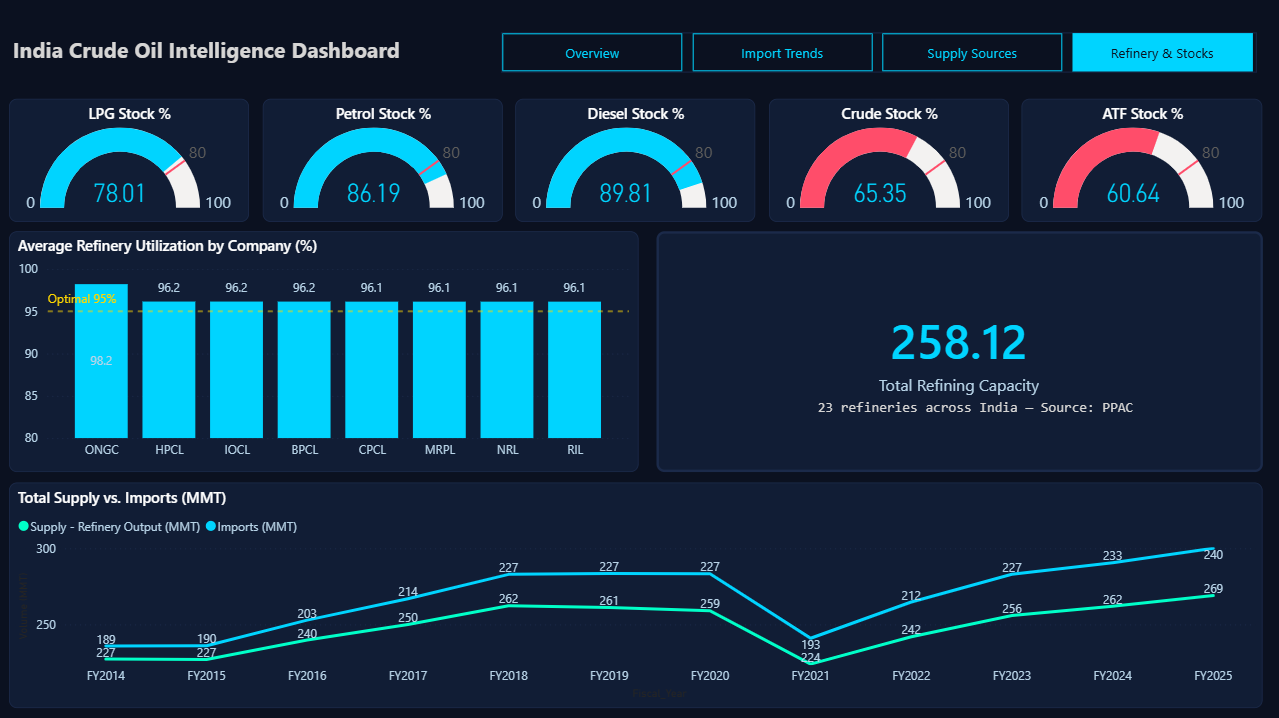

The page's visual inventory and layout, read from the dashboard file:
{"tool":"powerbi","page":{"name":"Refinery & Stocks","canvas":[1280,720],"ordinal":3},"visuals":[{"type":"gauge","title":"LPG Stock %","fields":{"Y":["StockLevels.LPG Stock"],"MinValue":["CrudeYearlyExtended.Gauge Min"],"MaxValue":["StockLevels.S Gauge Max"],"TargetValue":["StockLevels.Stock Target"]},"box":[10.3,98.7,239.7,123.1],"z":0},{"type":"lineChart","title":"Total Supply vs. Imports (MMT)","fields":{"Category":["CrudeYearlyExtended.Fiscal_Year"],"Y":["Sum(CrudeYearlyExtended.Total_Supply_MMT)"],"Y2":["Sum(CrudeYearlyExtended.Total_Imports_MMT)"]},"box":[10.3,482.1,1253.8,225.6],"z":1000},{"type":"gauge","title":"Diesel Stock %","fields":{"MinValue":["CrudeYearlyExtended.Gauge Min"],"MaxValue":["StockLevels.S Gauge Max"],"TargetValue":["StockLevels.Stock Target"],"Y":["StockLevels.Diesel Stock"]},"box":[516.7,98.7,239.7,123.1],"z":2000},{"type":"gauge","title":"Crude Stock %","fields":{"MinValue":["CrudeYearlyExtended.Gauge Min"],"MaxValue":["StockLevels.S Gauge Max"],"TargetValue":["StockLevels.Stock Target"],"Y":["StockLevels.Crude Stock"]},"box":[769.9,98.7,239.7,123.1],"z":3000},{"type":"gauge","title":"ATF Stock %","fields":{"MinValue":["CrudeYearlyExtended.Gauge Min"],"MaxValue":["StockLevels.S Gauge Max"],"TargetValue":["StockLevels.Stock Target"],"Y":["StockLevels.ATF Stock"]},"box":[1023.1,98.7,241,123.1],"z":4000},{"type":"gauge","title":"Petrol Stock %","fields":{"MinValue":["CrudeYearlyExtended.Gauge Min"],"MaxValue":["StockLevels.S Gauge Max"],"TargetValue":["StockLevels.Stock Target"],"Y":["StockLevels.Petrol Stock"]},"box":[263.5,98.7,239.7,123.1],"z":5000},{"type":"clusteredColumnChart","title":"Average Refinery Utilization by Company (%)","fields":{"Category":["RefineryData.Company"],"Y":["RefineryData.Refinery Utilization %"]},"box":[10.3,230.8,629.5,241],"z":6000},{"type":"cardVisual","fields":{"Data":["RefiningCapacity2025.Total Refining Capacity"]},"box":[657.7,230.8,606.4,241],"z":7000},{"type":"textbox","box":[793.6,392.3,365.4,37.2],"z":8000},{"type":"textbox","box":[9,12.8,1261.5,92.3],"z":8001},{"type":"pageNavigator","box":[503,33,755,40],"z":8002}]}

Visuals, with their boxes in screenshot pixels (x1, y1, x2, y2), scaled from the page's 1280x720 canvas onto the 1279x718 screenshot:
"LPG Stock %" gauge: detection(10, 98, 250, 221)
"Total Supply vs. Imports (MMT)" lineChart: detection(10, 481, 1263, 706)
"Diesel Stock %" gauge: detection(516, 98, 756, 221)
"Crude Stock %" gauge: detection(769, 98, 1009, 221)
"ATF Stock %" gauge: detection(1022, 98, 1263, 221)
"Petrol Stock %" gauge: detection(263, 98, 503, 221)
"Average Refinery Utilization by Company (%)" clusteredColumnChart: detection(10, 230, 639, 470)
cardVisual - RefiningCapacity2025.Total Refining Capacity: detection(657, 230, 1263, 470)
textbox: detection(793, 391, 1158, 428)
textbox: detection(9, 13, 1270, 105)
pageNavigator: detection(503, 33, 1257, 73)
